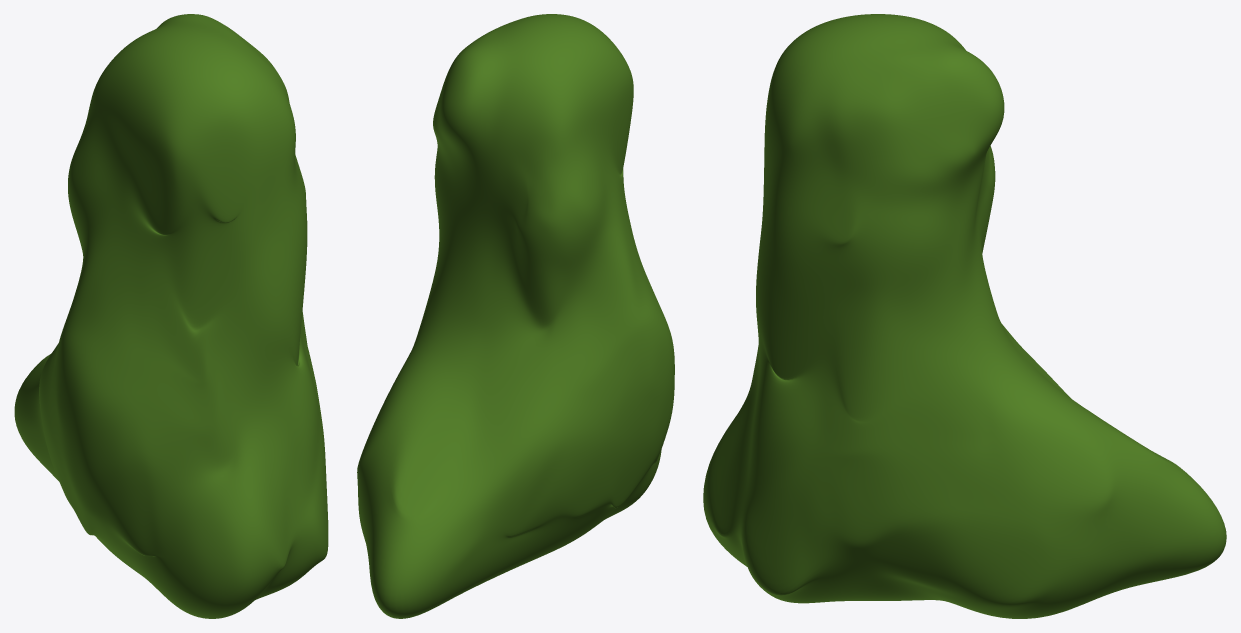
File: slime.fbx
3 views of the same model, side by side, from view 1: azimuth 30°, elevation 25°; view 2: azimuth 150°, elevation 25°; view 3: azimuth 270°, elevation 25° (orthographic). The views are drawn at different scales.
Parts seen in each view (by area): view 1: slime; view 2: slime; view 3: slime.
Boxes of the visible parts, <box> form: slime: <box>14,14,328,618</box>; slime: <box>357,14,674,618</box>; slime: <box>703,14,1226,618</box>.
Bounding box in the file's own units: 365 × 786 × 658.
